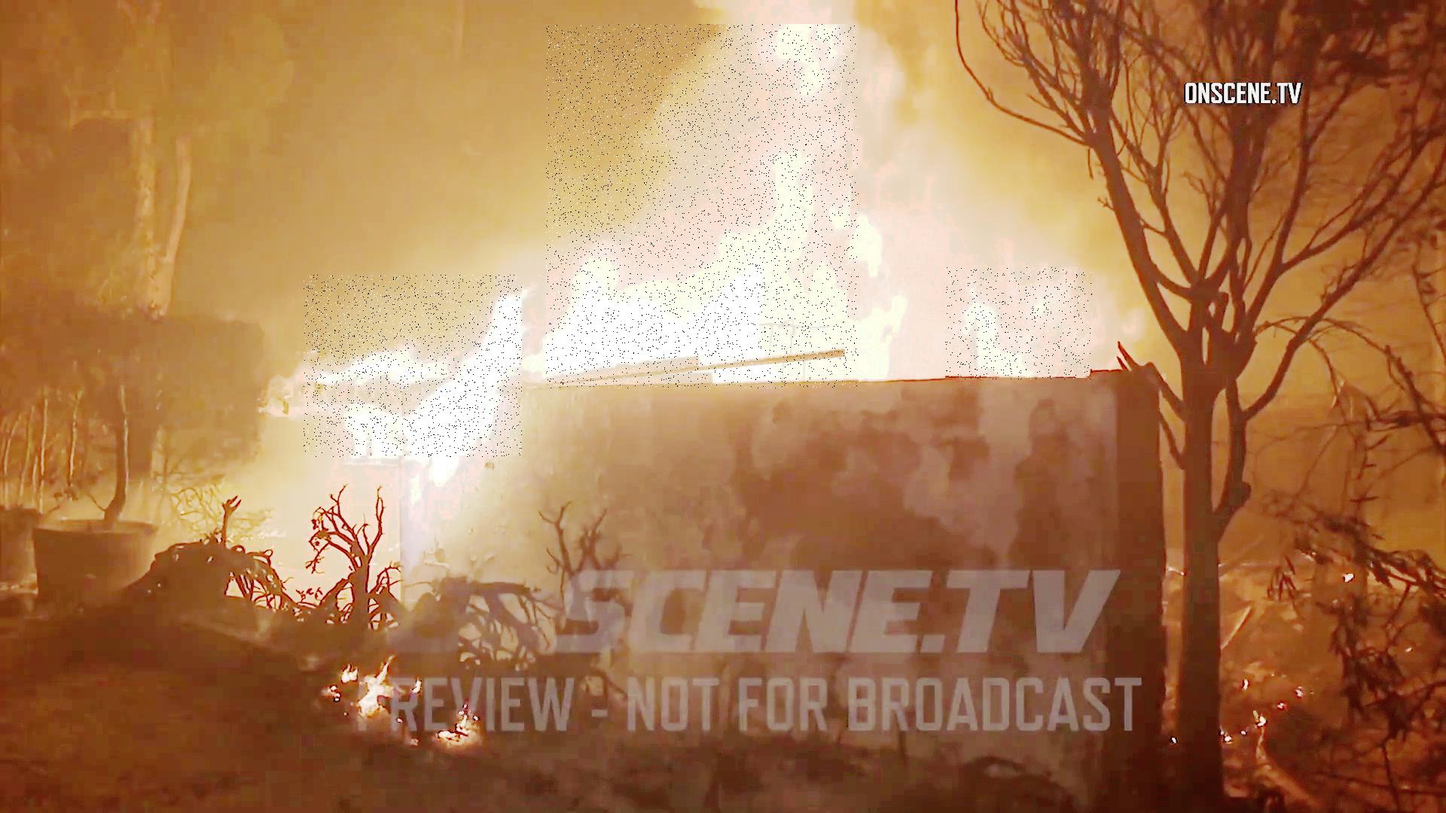fire: (546, 25, 859, 389), (304, 275, 522, 458), (945, 268, 1092, 380)
